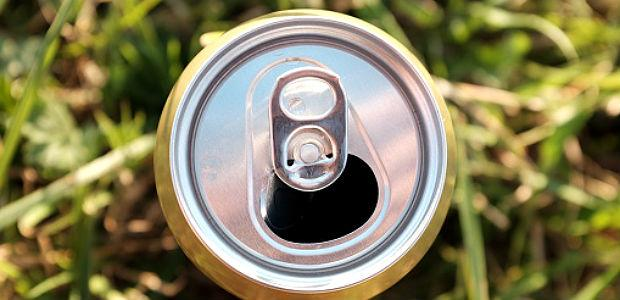metal: (146, 10, 452, 300)
